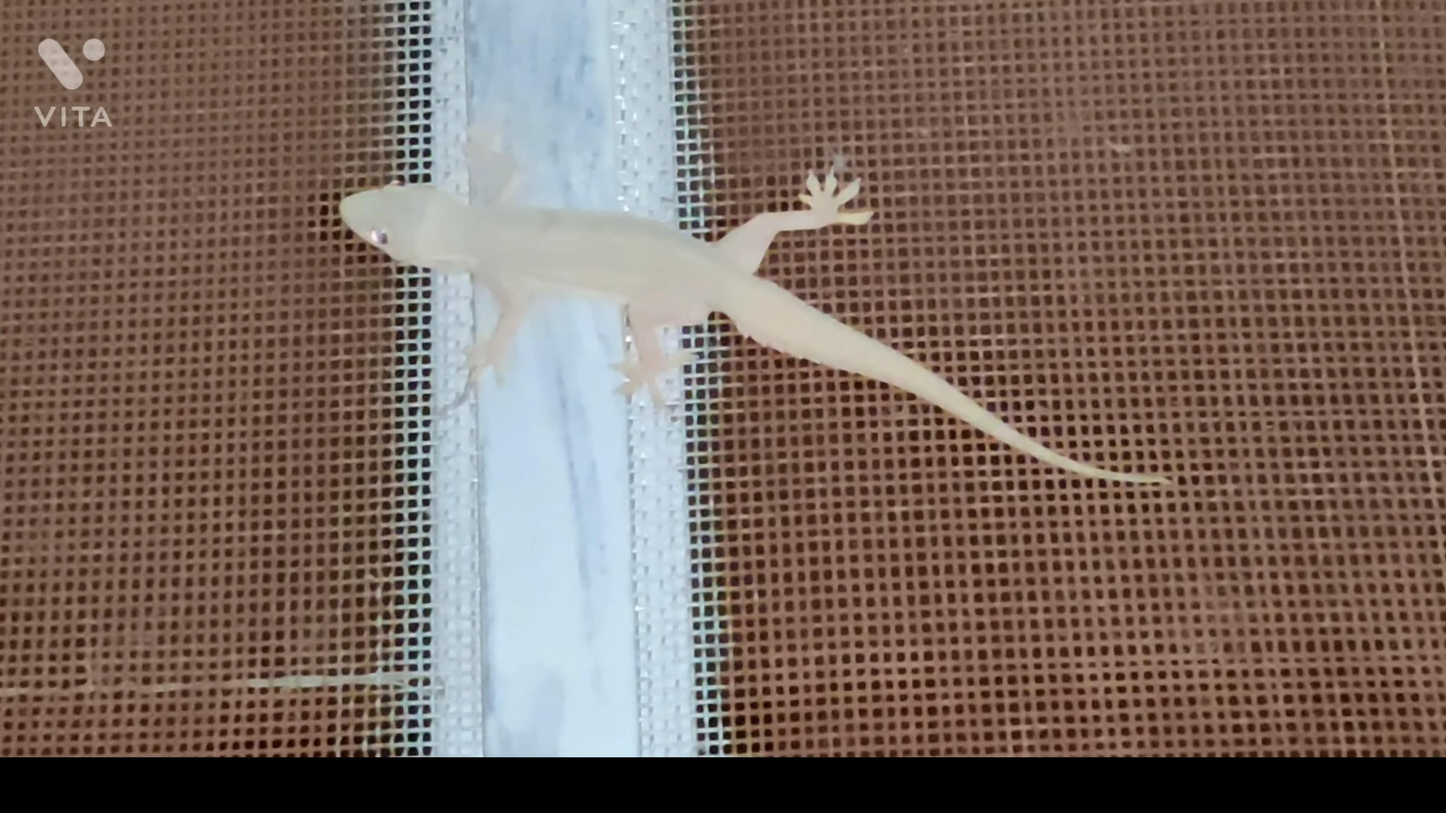lizard: (332, 161, 1169, 484)
